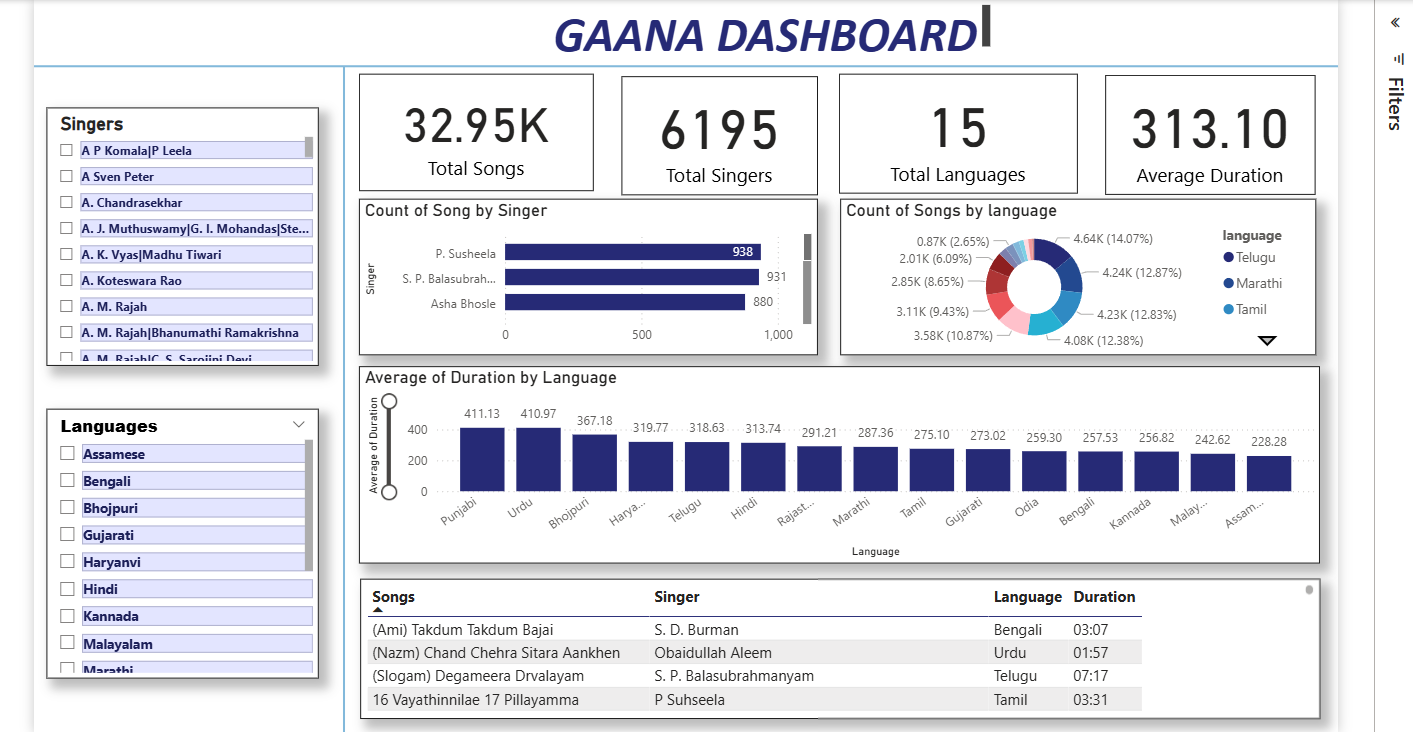

The dashboard page shown, as its layout file describes it:
{"tool":"powerbi","page":{"name":"Page 1","canvas":[1280,720],"ordinal":0},"visuals":[{"type":"barChart","fields":{"Category":["Gaana.singer"],"Y":["Gaana.name"]},"box":[319,195.1,450.3,153.4],"z":0},{"type":"card","title":"Total Songs","fields":{"Values":["Gaana.Total Songs"]},"box":[319,72.4,230.7,115.3],"z":1000,"group":"g1"},{"type":"donutChart","fields":{"Category":["Gaana.language"],"Y":["Gaana.name"]},"box":[791.4,195.1,467.5,153.4],"z":1000},{"type":"card","fields":{"Values":["Gaana.Average Duration"]},"box":[1051.5,73.2,206.1,117.8],"z":2000,"group":"g1"},{"type":"columnChart","fields":{"Category":["Gaana.language"],"Y":["Gaana.duration_in_secs"]},"box":[319,359.5,943.6,193.9],"z":2000},{"type":"card","fields":{"Values":["Gaana.Total Languages"]},"box":[790.1,71.9,234.4,117.8],"z":3000,"group":"g1"},{"type":"tableEx","fields":{"Values":["Gaana.name","Gaana.singer","Gaana.language","Gaana.Duration Display"]},"box":[320.2,568.1,942.3,137.4],"z":3000},{"type":"card","fields":{"Values":["Gaana.Total Singers"]},"box":[576.1,74.4,192.6,116.6],"z":4000,"group":"g1"},{"type":"slicer","fields":{"Values":["Gaana.language"]},"box":[12.3,401.2,267.5,265],"z":4000},{"type":"slicer","fields":{"Values":["Gaana.singer"]},"box":[12.3,105.5,267.5,254],"z":5000},{"type":"group","id":"g1","title":"Group 1","box":[319,71.9,938.6,119.1],"z":6000},{"type":"shape","box":[0,58.9,1281,12.3],"z":7000},{"type":"shape","box":[293.3,65,22.1,654],"z":8000},{"type":"textbox","box":[504.3,0,439.3,58.9],"z":9000}]}

Visuals, with their boxes on the page's 1280x720 design canvas (x1, y1, x2, y2). These are canvas units, not pixel positions in the 1413x732 screenshot, which may show the page scaled, cropped or inside an application window:
barChart - Gaana.singer x Gaana.name: locate(319, 195, 769, 348)
"Total Songs" card: locate(319, 72, 550, 188)
donutChart - Gaana.language x Gaana.name: locate(791, 195, 1259, 348)
card - Gaana.Average Duration: locate(1052, 73, 1258, 191)
columnChart - Gaana.language x Gaana.duration_in_secs: locate(319, 360, 1263, 553)
card - Gaana.Total Languages: locate(790, 72, 1024, 190)
tableEx - Gaana.name x Gaana.singer: locate(320, 568, 1262, 706)
card - Gaana.Total Singers: locate(576, 74, 769, 191)
slicer - Gaana.language: locate(12, 401, 280, 666)
slicer - Gaana.singer: locate(12, 106, 280, 360)
"Group 1" group: locate(319, 72, 1258, 191)
shape: locate(0, 59, 1281, 71)
shape: locate(293, 65, 315, 719)
textbox: locate(504, 0, 944, 59)
